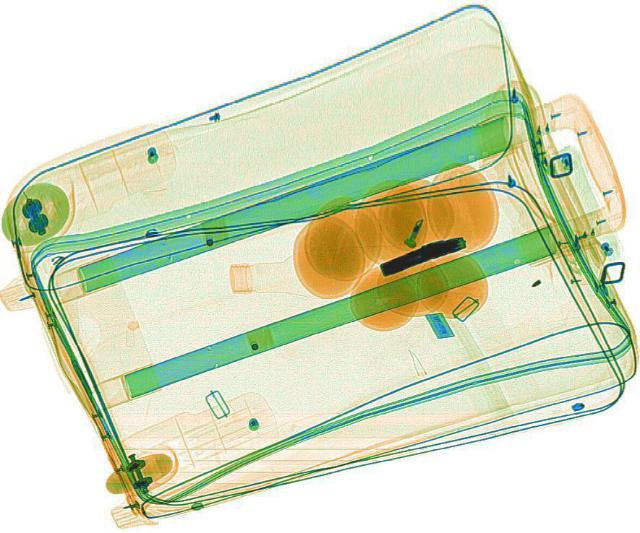Gun: (373, 231, 471, 276)
